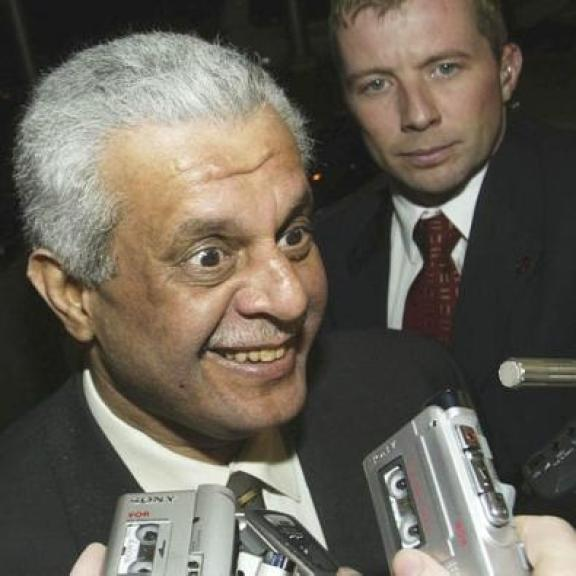face: (24, 110, 328, 436), (336, 12, 526, 191)
